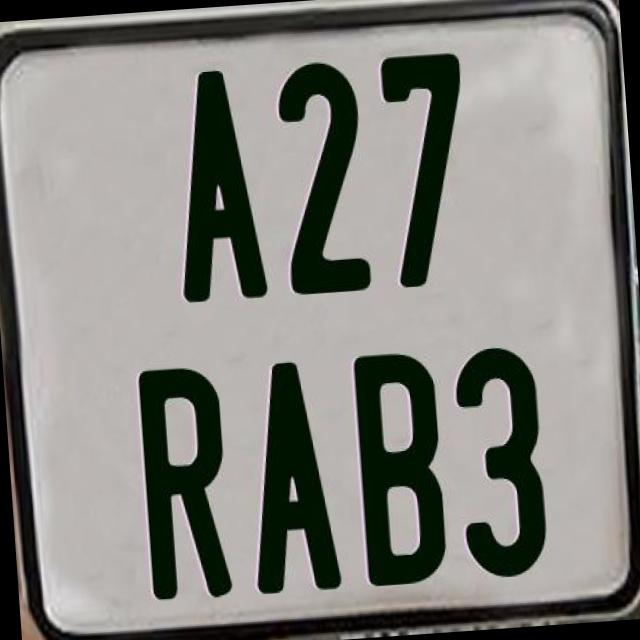2: (274, 58, 375, 303)
3: (452, 345, 554, 587)
7: (379, 50, 483, 286)
A: (165, 67, 268, 304), (242, 358, 342, 602)
B: (352, 349, 454, 594)
R: (138, 366, 232, 603)
